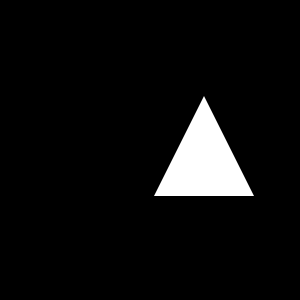triangle: (154, 96, 254, 196)
